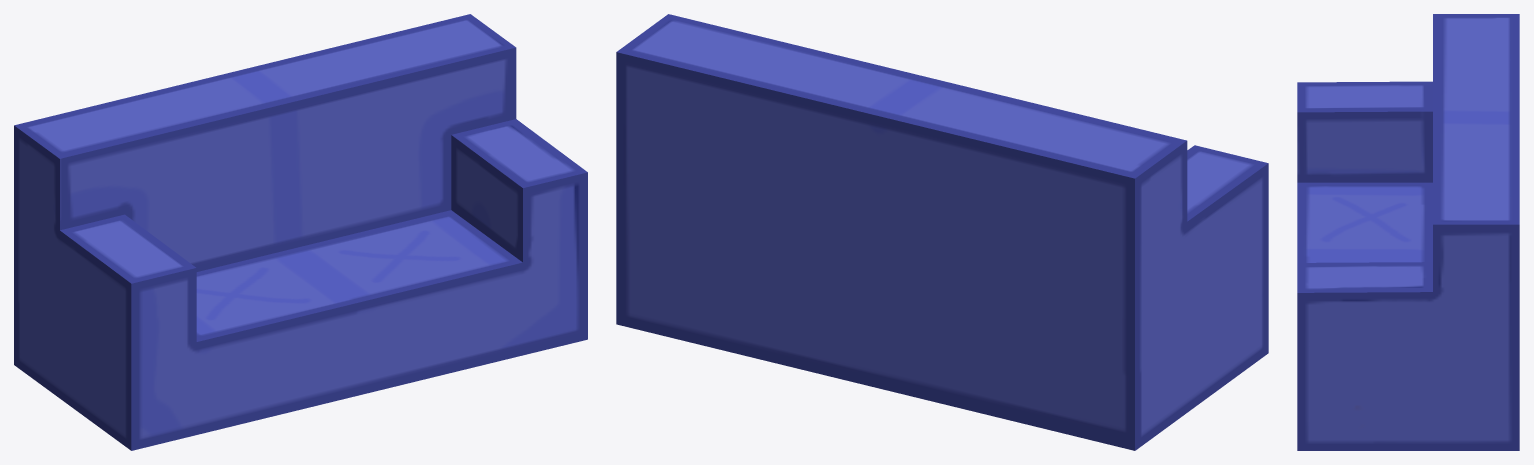
File: big sofa.fbx
The picture shows the model from 3 angles, left to right: view 1: azimuth 30°, elevation 25°; view 2: azimuth 150°, elevation 25°; view 3: azimuth 270°, elevation 25°; orthographic projection. The views are drawn at different scales.
Visible parts, largest first — view 1: pCube1; view 2: pCube1; view 3: pCube1.
Part boxes in pixels (left/top/right/bottom): pCube1: left=14, top=14, right=587, bottom=450; pCube1: left=616, top=14, right=1268, bottom=450; pCube1: left=1297, top=14, right=1519, bottom=450.
Bounding box in the file's own units: 3.97 × 1.99 × 1.77.
